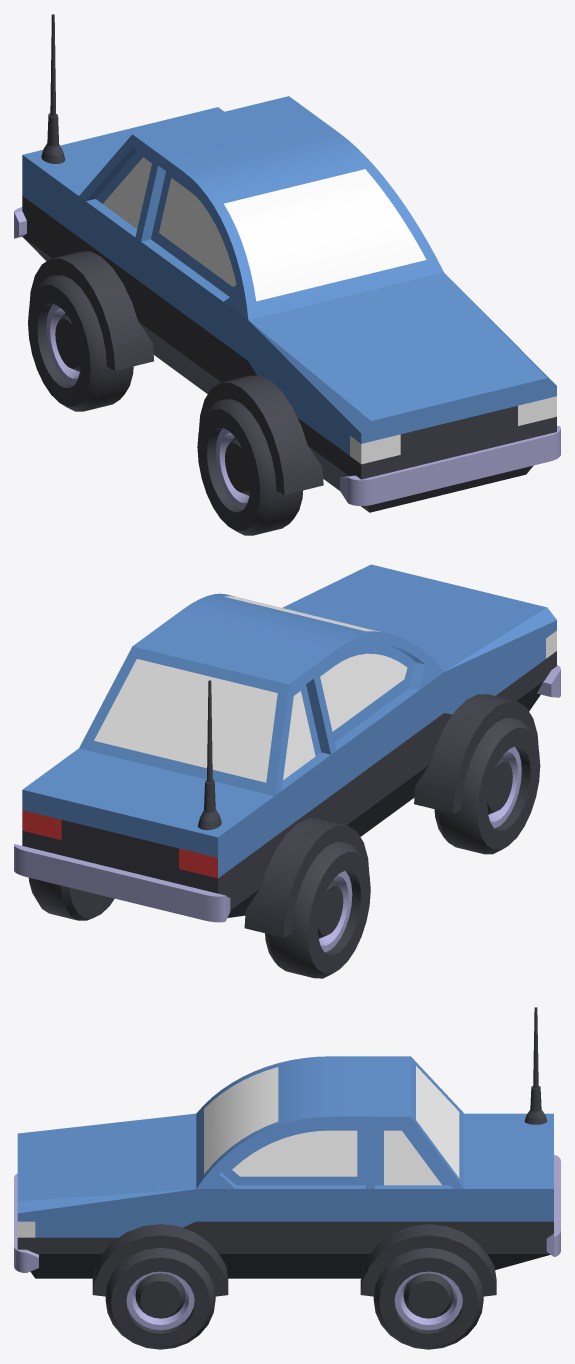
The model's file is Car1.fbx.
The picture shows the model from 3 angles, top to bottom: view 1: azimuth 30°, elevation 25°; view 2: azimuth 150°, elevation 25°; view 3: azimuth 270°, elevation 25°; orthographic projection. The views are drawn at different scales.
Visible parts, largest first — view 1: body_frontLarge, body_topRound, wheel_classic (×2), wheel_coverStandard (×2), body_backSolid, body_standard, body_topBackStandard, bumper, detail_antenna; view 2: body_backSolid, body_topBackStandard, wheel_classic (×3), body_frontLarge, body_topRound, wheel_coverStandard (×2), body_standard, bumper (×2), detail_antenna; view 3: body_frontLarge, body_topRound, wheel_classic (×2), body_backSolid, body_standard, body_topBackStandard, wheel_coverStandard (×2), bumper (×2), detail_antenna.
Boxes of the visible parts, <box> form: body_frontLarge: <box>248,272,556,512</box>; body_topRound: <box>135,112,443,319</box>; wheel_classic (×2): <box>28,275,303,535</box>; wheel_coverStandard (×2): <box>29,251,323,494</box>; body_backSolid: <box>22,107,224,355</box>; body_standard: <box>135,238,248,393</box>; body_topBackStandard: <box>79,96,310,228</box>; bumper: <box>340,426,560,505</box>; detail_antenna: <box>41,14,65,163</box>; body_backSolid: <box>22,748,330,917</box>; body_topBackStandard: <box>79,630,321,795</box>; wheel_classic (×3): <box>28,718,540,978</box>; body_frontLarge: <box>282,564,556,727</box>; body_topRound: <box>155,593,443,754</box>; wheel_coverStandard (×2): <box>244,694,538,937</box>; body_standard: <box>331,672,443,836</box>; bumper (×2): <box>14,665,560,922</box>; detail_antenna: <box>198,680,221,830</box>; body_frontLarge: <box>17,1113,196,1278</box>; body_topRound: <box>196,1056,374,1188</box>; wheel_classic (×2): <box>105,1247,483,1349</box>; body_backSolid: <box>375,1113,553,1269</box>; body_standard: <box>196,1185,374,1278</box>; body_topBackStandard: <box>375,1056,464,1188</box>; wheel_coverStandard (×2): <box>92,1224,496,1296</box>; bumper (×2): <box>14,1155,560,1272</box>; detail_antenna: <box>524,1007,547,1124</box>.
Bounding box in the file's own units: 14.33 × 16.08 × 30.6.
